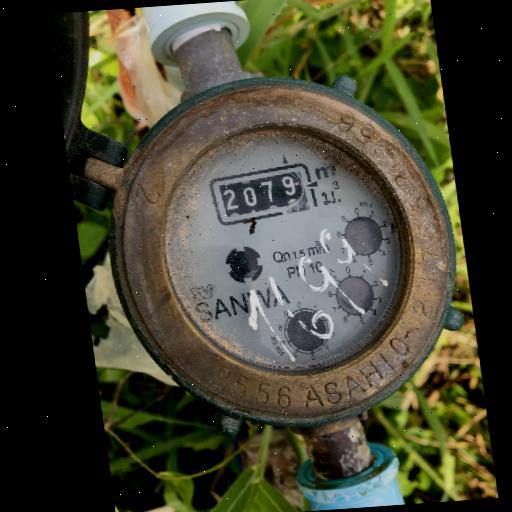0: (234, 178, 264, 216)
2: (219, 182, 243, 217)
7: (253, 175, 286, 212)
9: (276, 170, 310, 214)
border_water_meter_number: (204, 158, 323, 229)
